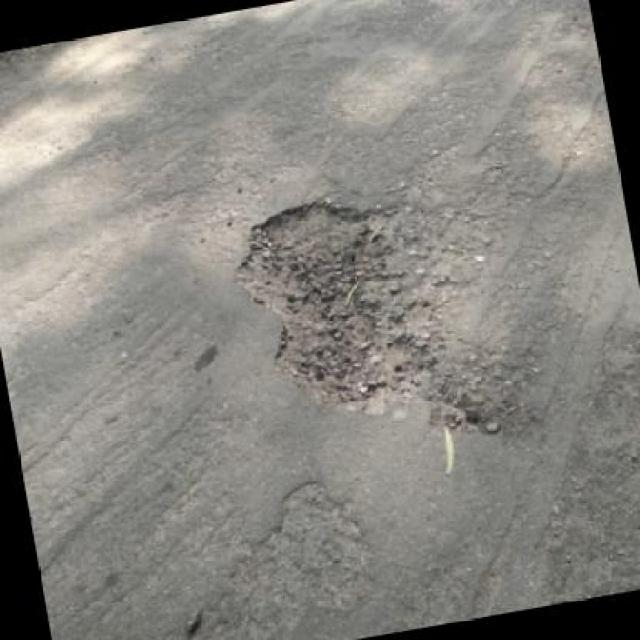pothole1: (219, 183, 441, 435)
